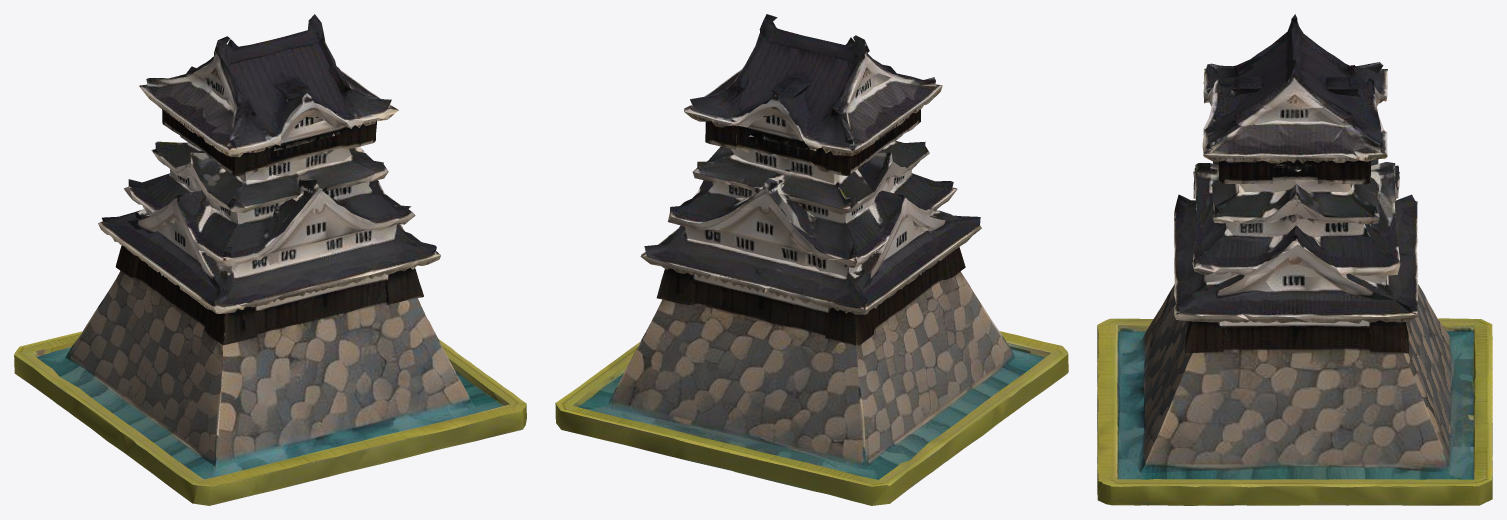
Rendered from kokura-castle.glb.
3 renders of one model, left to right at view 1: azimuth 30°, elevation 25°; view 2: azimuth 150°, elevation 25°; view 3: azimuth 270°, elevation 25°, orthographic. The views are drawn at different scales.
Parts seen in each view (by area): view 1: logan-textured.obj; view 2: logan-textured.obj; view 3: logan-textured.obj.
Boxes of the visible parts, x1,y1,x2,y2 form: logan-textured.obj: [14, 14, 526, 505]; logan-textured.obj: [555, 14, 1068, 505]; logan-textured.obj: [1097, 14, 1492, 505].
Size of the model in its own units: 0.9377 by 1 by 0.9327.
1 material, 1 textured.
